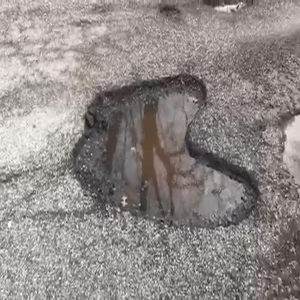pothole: (66, 71, 264, 235)
